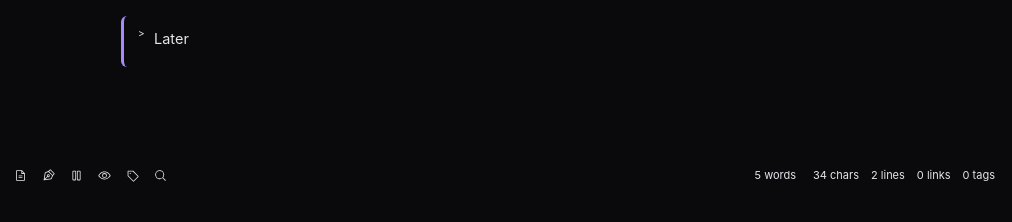
Test: NoteEditor link preview › toggles folded Obsidian callouts in read preview without editing markdown
Click the button with class "note-callout-title" at (171, 38), box [138,26,869,51]
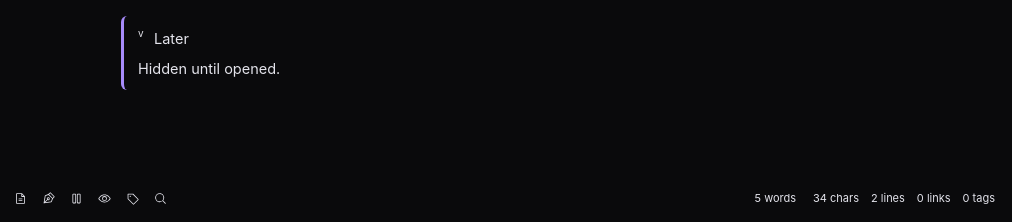
Expected: the button with class "note-callout-title" is expanded
Click the button with class "note-callout-title" at (171, 38), box [138,26,869,51]
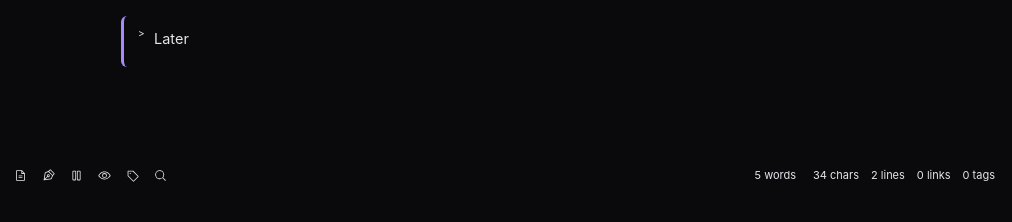
Expected: the button with class "note-callout-title" is collapsed, [138,26,869,51]
